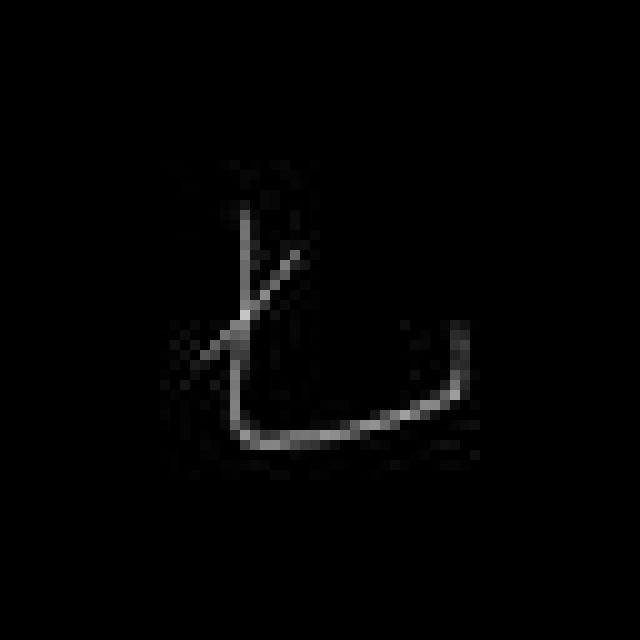7 -seven-: (190, 208, 479, 459)
